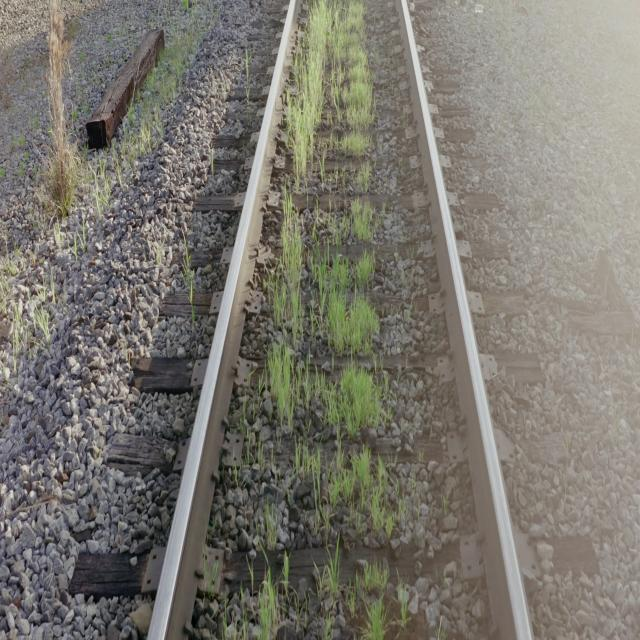Plant: (266, 191, 389, 440), (286, 0, 375, 191), (329, 444, 391, 533), (346, 562, 388, 616), (331, 198, 376, 247), (259, 569, 280, 638), (352, 447, 371, 507), (319, 551, 339, 602), (362, 602, 386, 638), (298, 444, 320, 480)
